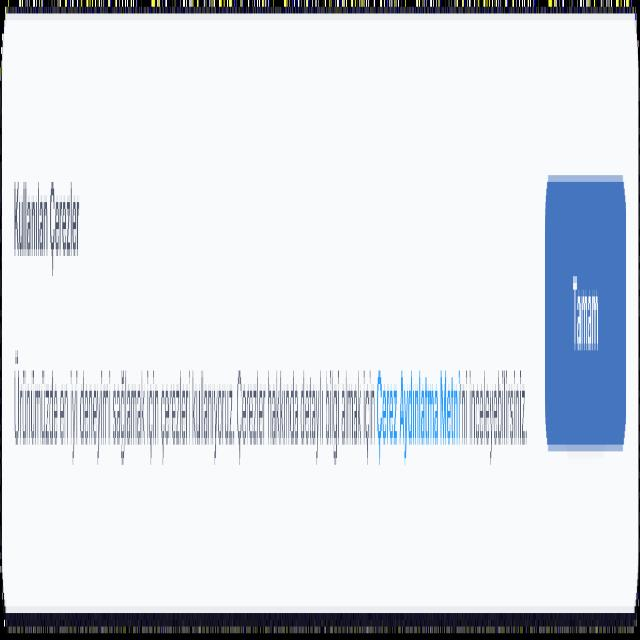QLabel: (13, 355, 376, 479), (12, 140, 82, 292), (377, 359, 460, 466), (461, 342, 527, 460), (571, 236, 600, 387)
VBtn: (544, 180, 627, 454)
VCard: (1, 28, 638, 601)
